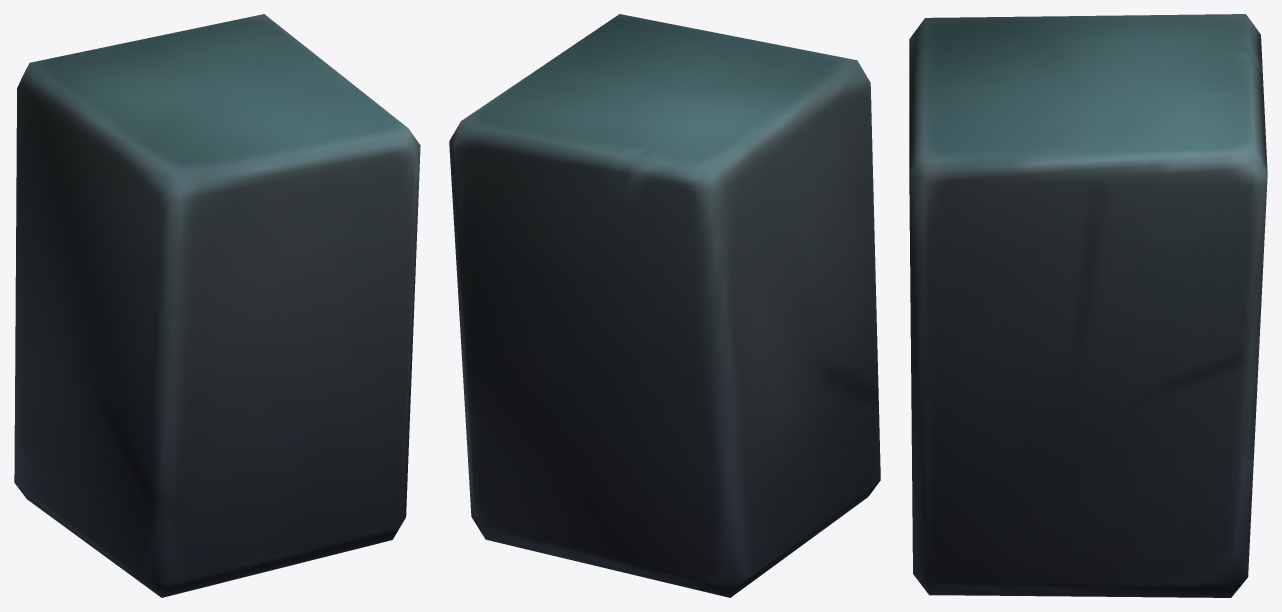
The model's file is SM_Gem_Titanium_Piece_002.fbx.
3 views of the same model, side by side, from view 1: azimuth 30°, elevation 25°; view 2: azimuth 150°, elevation 25°; view 3: azimuth 270°, elevation 25° (orthographic). The views are drawn at different scales.
Visible parts, largest first — view 1: SM_Gem_Titanium_Piece_002; view 2: SM_Gem_Titanium_Piece_002; view 3: SM_Gem_Titanium_Piece_002.
Part boxes in pixels (bbox=[...]): SM_Gem_Titanium_Piece_002: bbox=[14, 14, 420, 597]; SM_Gem_Titanium_Piece_002: bbox=[449, 14, 880, 597]; SM_Gem_Titanium_Piece_002: bbox=[909, 14, 1267, 597].
Size of the model in its own units: 11.93 by 17.7 by 12.33.
